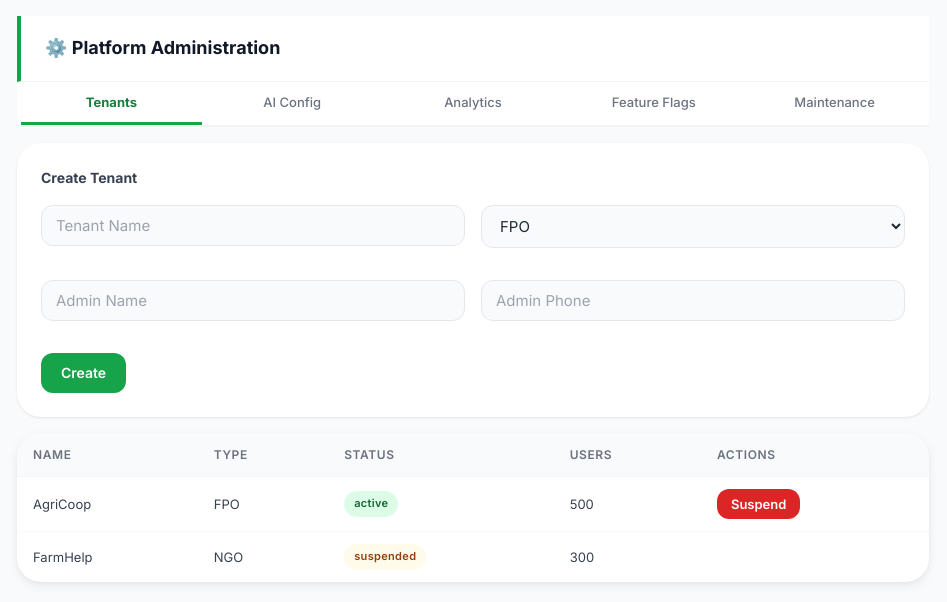
Test: PlatformAdminPage › displays cross-tenant analytics
Click the button with test id "tab-analytics". click: (473, 103)
box: x1=383 y1=82 x2=563 y2=125
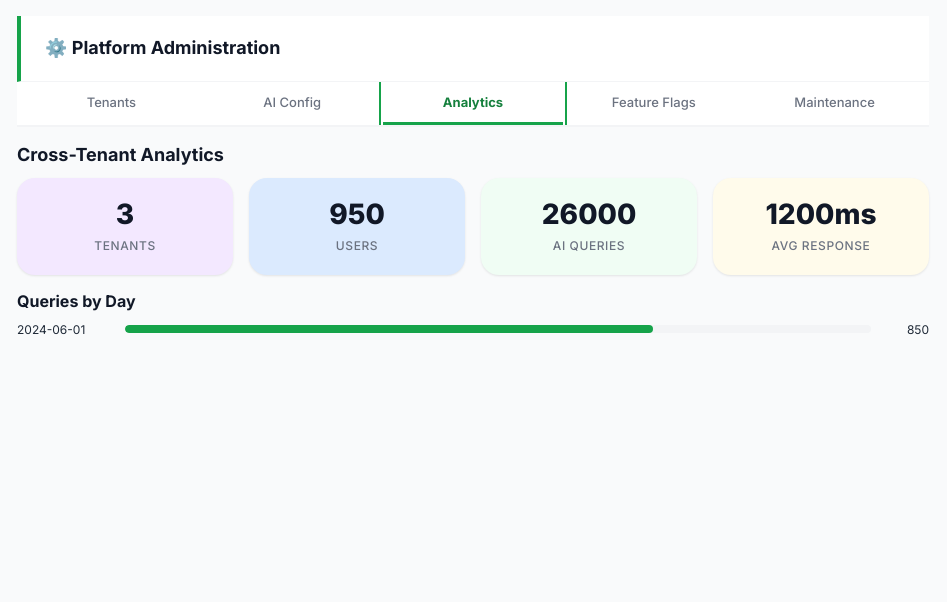
expect the element with test id "cross-analytics-section" is shown: met, box x1=17 y1=143 x2=929 y2=339
expect the element with test id "stat-total-tenants" shows "3": met, box x1=116 y1=197 x2=134 y2=231
expect the element with test id "stat-total-users" shows "950": met, box x1=329 y1=197 x2=385 y2=231
